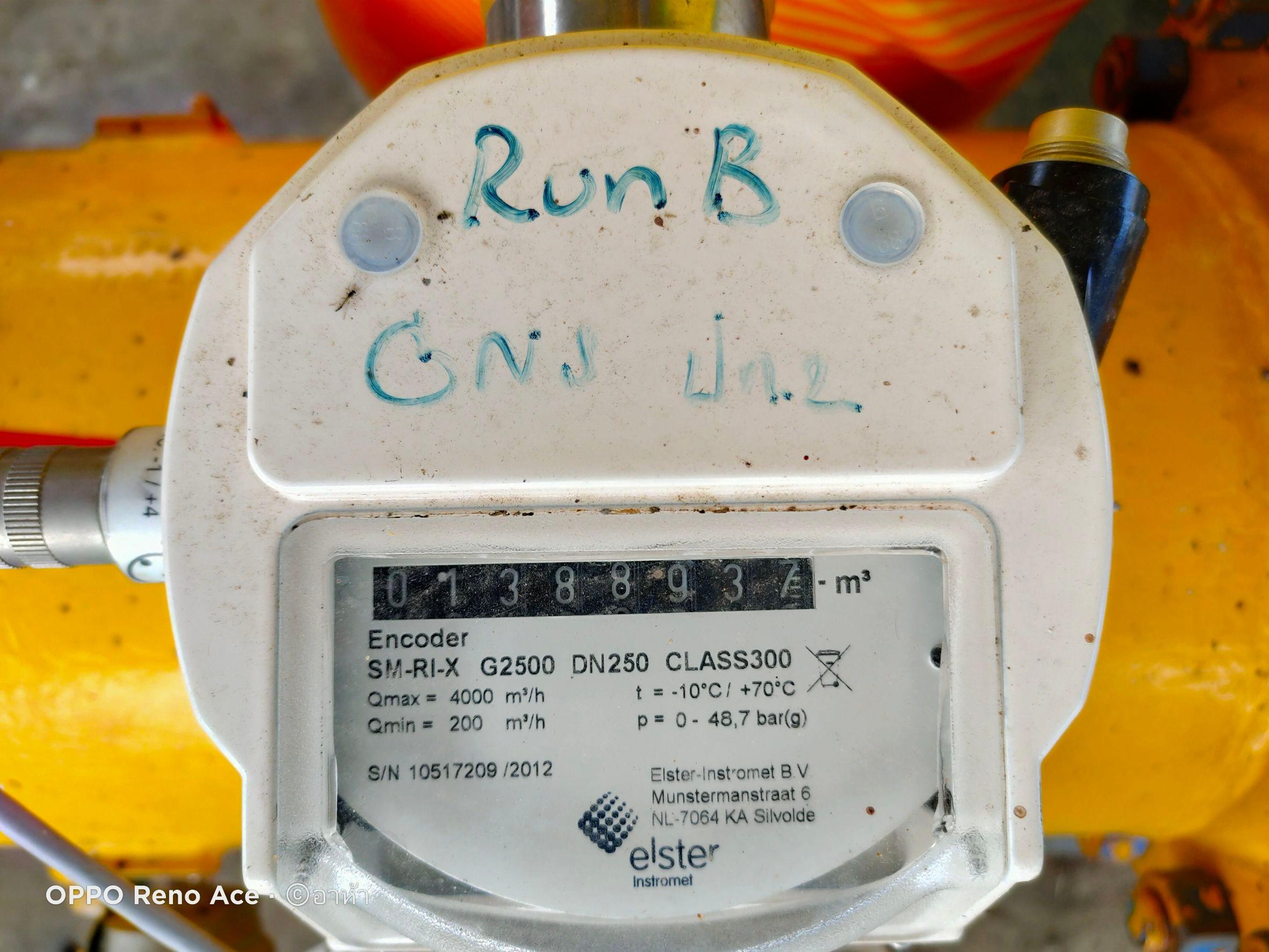analog_dial: (367, 549, 828, 626)
